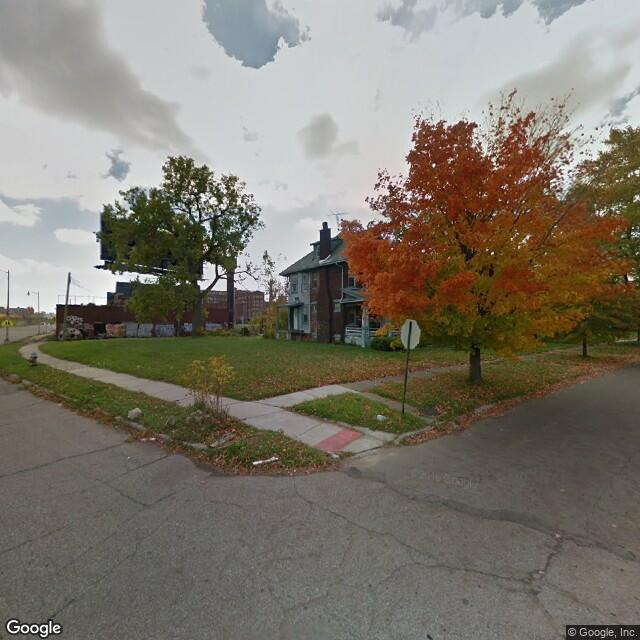litter: (252, 454, 279, 466), (141, 435, 159, 443), (376, 412, 386, 423)
